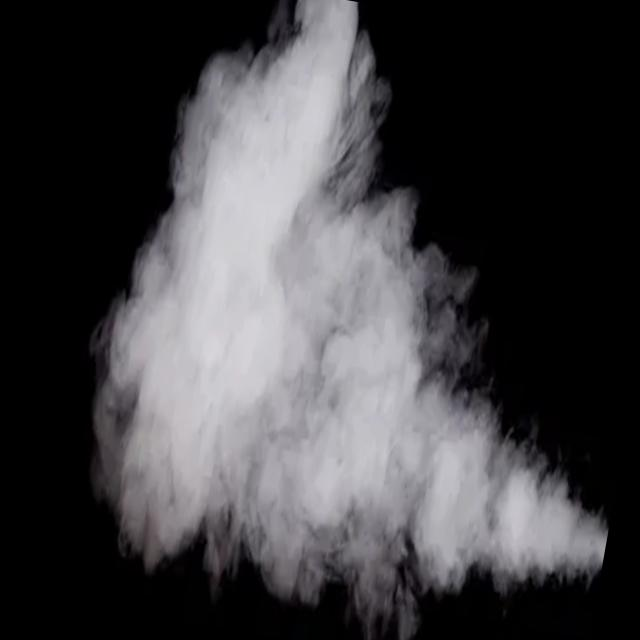Smoke: (57, 0, 640, 635)
